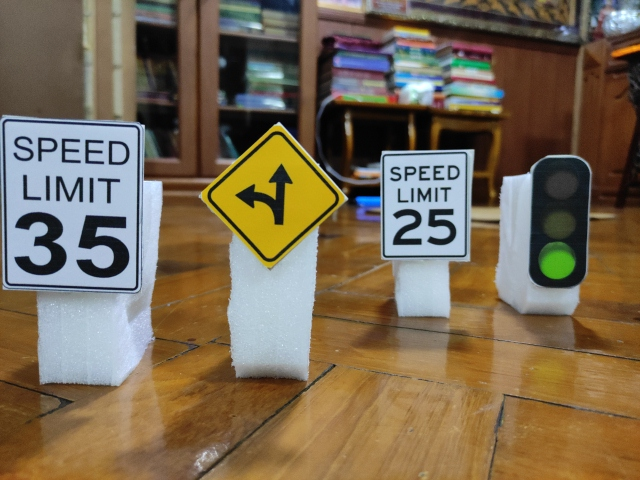Green Traffic Light: (529, 156, 592, 288)
Speed Limit 25: (380, 151, 470, 260)
Speed Limit 35: (2, 114, 143, 294)
Straight Or Left Sign: (201, 123, 349, 271)
